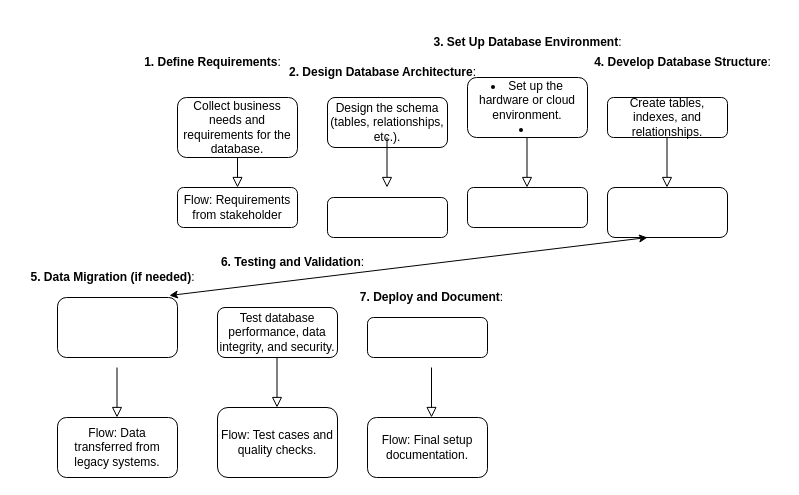
Some shapes in this 799 by 495 pixel diagram are drawn without their labels. Each missing label, with the centre of its shape:
"Deploy database for production and document the setup." goes at (427,337).
"Flow: Database schema implementation." goes at (667,212).
"Flow: Design concepts based on requirements." goes at (387,217).
"Flow: Setting up the database platform." goes at (527,207).
"Migrate existing data into the new database." goes at (117,327).
